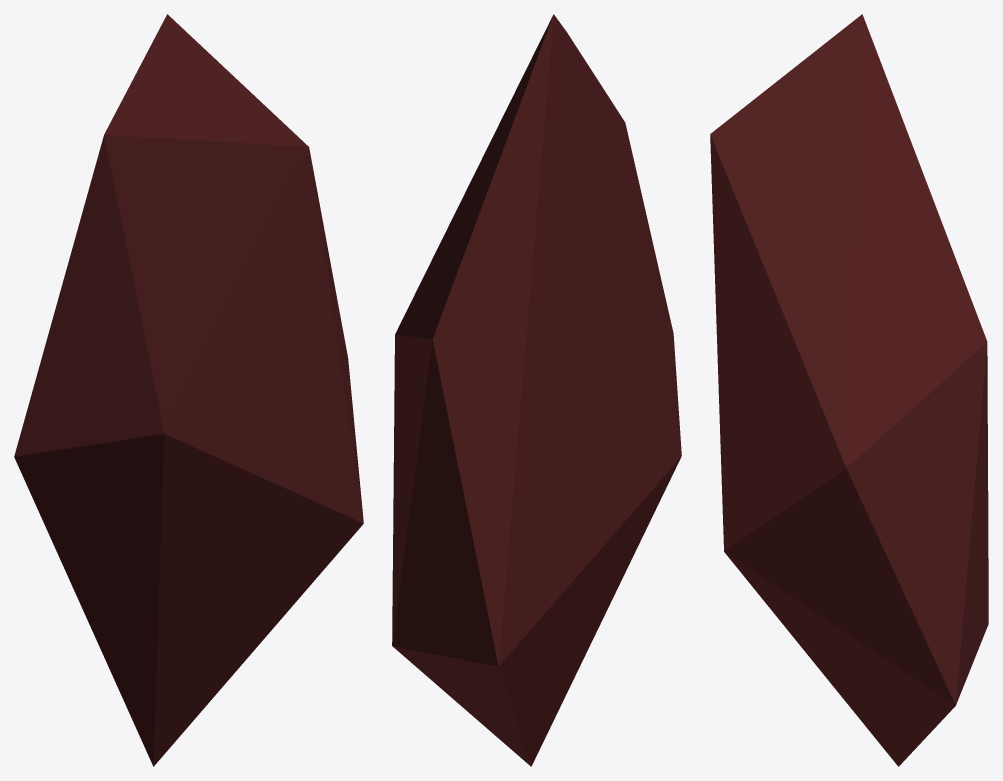
Rendered from SM_Prop_Gem_03.glb.
3 renders of one model, left to right at view 1: azimuth 30°, elevation 25°; view 2: azimuth 150°, elevation 25°; view 3: azimuth 270°, elevation 25°, orthographic. The views are drawn at different scales.
Parts seen in each view (by area): view 1: SM_Prop_Gem_03; view 2: SM_Prop_Gem_03; view 3: SM_Prop_Gem_03.
Boxes of the visible parts, <box> form: SM_Prop_Gem_03: <box>14,14,363,766</box>; SM_Prop_Gem_03: <box>392,14,681,766</box>; SM_Prop_Gem_03: <box>710,14,988,766</box>.
Size of the model in its own units: 0.0016 by 0.00372 by 0.00125.
1 material, 1 textured.
